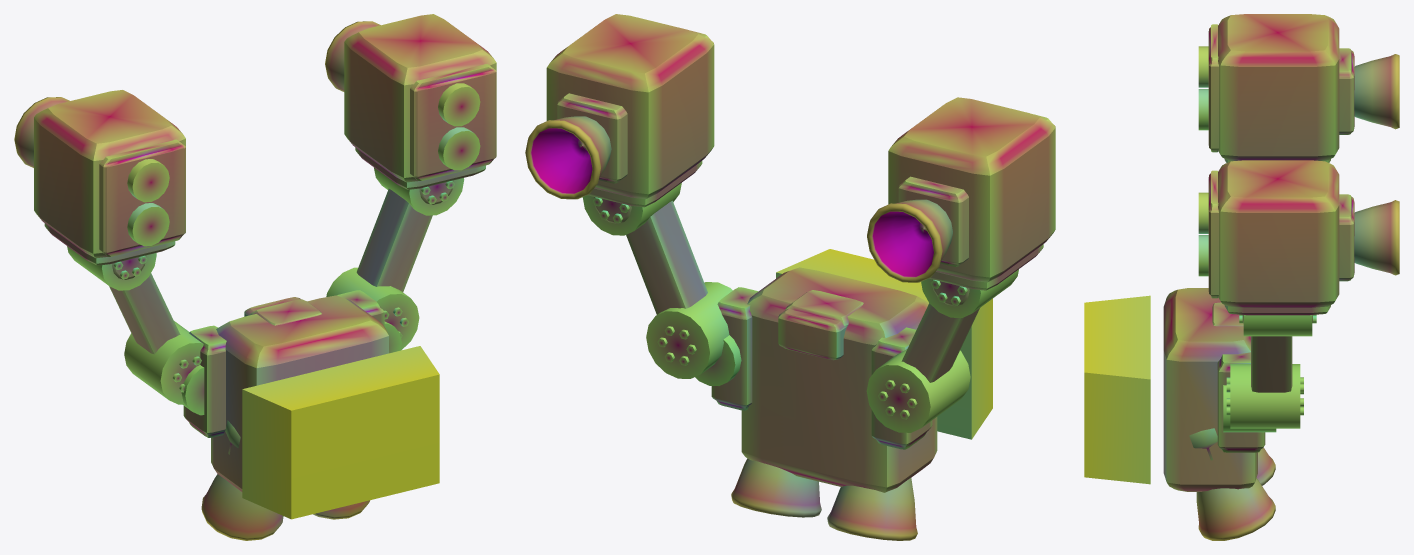
Rendered from llm_gen_dorsal_pack_018_2a7a13.glb.
3 views of the same model, side by side, from view 1: azimuth 30°, elevation 25°; view 2: azimuth 150°, elevation 25°; view 3: azimuth 270°, elevation 25° (orthographic). The views are drawn at different scales.
Visible parts, largest first — view 1: mounting_dovetail_plug, salvo_pod_box_6_wing_white_r, salvo_pod_box_6_wing_white_l, adapter_dorsal_spine_dark, salvo_face_frame_7_gold_r, salvo_face_frame_7_gold_l, salvo_mount_pylon_2_adapter_dark_r, adapter_sub_pylon_drum_dark_0_adapter_dark_l, lower_boost_bell_12_vernier_bell_vernier_l, salvo_mount_pylon_2_adapter_dark_l, adapter_dorsal_outrigger_dark_l, adapter_sub_pylon_drum_dark_0_adapter_dark_r (+13 smaller); view 2: adapter_dorsal_spine_dark, salvo_pod_box_6_wing_white_r, salvo_pod_box_6_wing_white_l, mounting_dovetail_plug, exhaust_vernier_11_vernier_bell_vernier_r, exhaust_vernier_11_vernier_bell_vernier_l, salvo_mount_pylon_2_adapter_dark_r, adapter_sub_pylon_drum_dark_0_adapter_dark_l, adapter_sub_pylon_drum_dark_0_adapter_dark_r, lower_boost_bell_12_vernier_bell_vernier_l, lower_boost_bell_12_vernier_bell_vernier_r, salvo_mount_pylon_2_adapter_dark_l (+11 smaller); view 3: salvo_pod_box_6_wing_white_r, salvo_pod_box_6_wing_white_l, adapter_dorsal_spine_dark, mounting_dovetail_plug, lower_boost_bell_12_vernier_bell_vernier_r, adapter_sub_pylon_drum_dark_0_adapter_dark_r, exhaust_vernier_11_vernier_bell_vernier_r, exhaust_vernier_11_vernier_bell_vernier_l, salvo_mount_pylon_2_adapter_dark_r, adapter_dorsal_outrigger_dark_r, adapter_sub_upper_drum_dark_3_adapter_dark_r, adapter_sub_pod_exhaust_dark_10_adapter_dark_r (+12 smaller).
Part boxes in pixels (box(x1,y1,x2,y2)): mounting_dovetail_plug: box(242, 346, 439, 519); salvo_pod_box_6_wing_white_r: box(344, 14, 496, 182); salvo_pod_box_6_wing_white_l: box(34, 90, 185, 258); adapter_dorsal_spine_dark: box(211, 295, 388, 491); salvo_face_frame_7_gold_r: box(410, 64, 496, 180); salvo_face_frame_7_gold_l: box(99, 139, 185, 256); salvo_mount_pylon_2_adapter_dark_r: box(356, 188, 432, 292); adapter_sub_pylon_drum_dark_0_adapter_dark_l: box(124, 321, 203, 404); lower_boost_bell_12_vernier_bell_vernier_l: box(201, 474, 283, 540); salvo_mount_pylon_2_adapter_dark_l: box(109, 273, 180, 354); adapter_dorsal_outrigger_dark_l: box(183, 325, 226, 437); adapter_sub_pylon_drum_dark_0_adapter_dark_r: box(326, 267, 419, 350); adapter_dorsal_spine_dark: box(741, 267, 937, 492); salvo_pod_box_6_wing_white_r: box(546, 14, 714, 199); salvo_pod_box_6_wing_white_l: box(888, 97, 1055, 282); mounting_dovetail_plug: box(776, 249, 992, 439); exhaust_vernier_11_vernier_bell_vernier_r: box(525, 116, 611, 199); exhaust_vernier_11_vernier_bell_vernier_l: box(867, 199, 952, 282); salvo_mount_pylon_2_adapter_dark_r: box(626, 200, 707, 314); adapter_sub_pylon_drum_dark_0_adapter_dark_l: box(866, 349, 970, 432); adapter_sub_pylon_drum_dark_0_adapter_dark_r: box(646, 282, 732, 378); lower_boost_bell_12_vernier_bell_vernier_l: box(827, 478, 917, 540); lower_boost_bell_12_vernier_bell_vernier_r: box(731, 458, 821, 517); salvo_mount_pylon_2_adapter_dark_l: box(901, 303, 979, 382); salvo_pod_box_6_wing_white_r: box(1218, 160, 1339, 307); salvo_pod_box_6_wing_white_l: box(1218, 14, 1339, 160); adapter_dorsal_spine_dark: box(1163, 288, 1257, 491); mounting_dovetail_plug: box(1084, 295, 1150, 484); lower_boost_bell_12_vernier_bell_vernier_r: box(1196, 478, 1275, 540); adapter_sub_pylon_drum_dark_0_adapter_dark_r: box(1230, 364, 1300, 428); exhaust_vernier_11_vernier_bell_vernier_r: box(1354, 200, 1399, 275); exhaust_vernier_11_vernier_bell_vernier_l: box(1354, 54, 1399, 129); salvo_mount_pylon_2_adapter_dark_r: box(1251, 336, 1292, 392); adapter_dorsal_outrigger_dark_r: box(1217, 352, 1265, 452); adapter_sub_upper_drum_dark_3_adapter_dark_r: box(1243, 315, 1312, 336); adapter_sub_pod_exhaust_dark_10_adapter_dark_r: box(1339, 194, 1354, 281).
Bounding box in the file's own units: 55.15 × 54.22 × 38.13.
